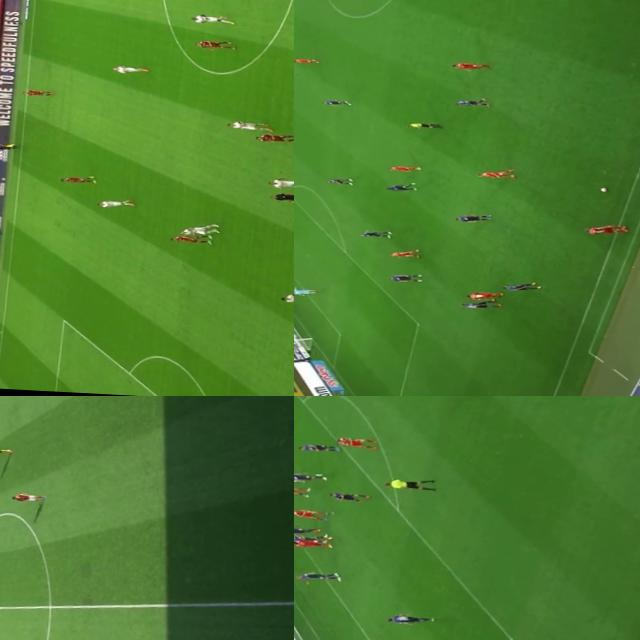ball: (596, 185, 610, 192)
player: (295, 568, 343, 584), (584, 221, 627, 237), (222, 118, 272, 130), (180, 222, 220, 236), (464, 287, 503, 301), (479, 167, 518, 180), (388, 270, 424, 284), (460, 298, 500, 310), (58, 172, 94, 185), (453, 212, 492, 224), (172, 233, 214, 244), (386, 247, 419, 261), (338, 436, 376, 448), (98, 196, 135, 208), (294, 536, 331, 548), (190, 13, 230, 24), (386, 614, 430, 624), (298, 441, 342, 451), (294, 522, 323, 537), (502, 280, 538, 292), (386, 180, 422, 192), (451, 60, 487, 72), (328, 489, 364, 501), (10, 490, 44, 502), (294, 505, 325, 518), (294, 469, 325, 482), (109, 64, 149, 74), (382, 162, 422, 172), (259, 131, 294, 142), (358, 228, 396, 238), (453, 95, 487, 106), (198, 38, 231, 48), (294, 532, 327, 542), (266, 178, 294, 189), (294, 285, 318, 296), (324, 176, 356, 184), (321, 97, 349, 106), (24, 90, 52, 96), (294, 57, 317, 64), (294, 484, 306, 496), (281, 292, 294, 303), (0, 444, 12, 455)
